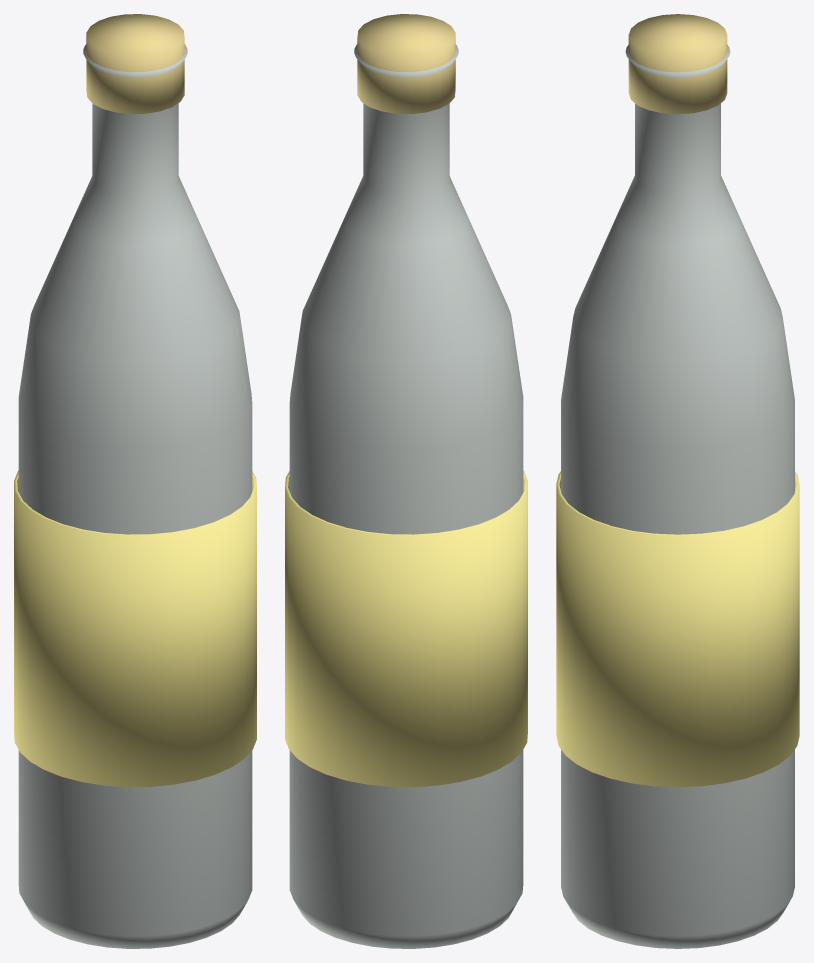
The model's file is bottle_cachaca.glb.
3 renders of one model, left to right at view 1: azimuth 30°, elevation 25°; view 2: azimuth 150°, elevation 25°; view 3: azimuth 270°, elevation 25°, orthographic.
Visible parts, largest first — view 1: bottle_cachaca; view 2: bottle_cachaca; view 3: bottle_cachaca.
Boxes of the visible parts, bbox=[...] form: bottle_cachaca: bbox=[14, 14, 256, 948]; bottle_cachaca: bbox=[285, 14, 527, 948]; bottle_cachaca: bbox=[556, 14, 799, 948].
Bounding box in the file's own units: 0.079 × 0.313 × 0.079.
